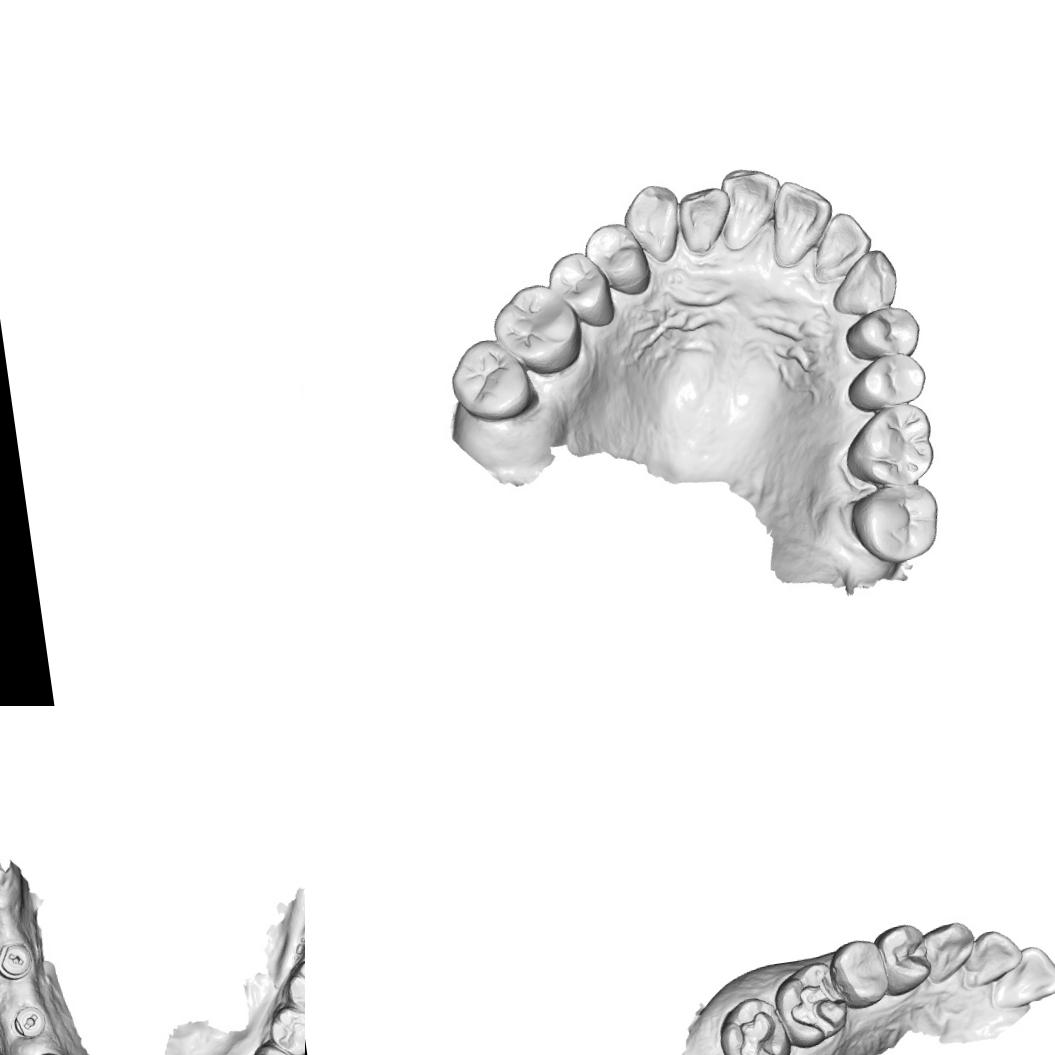canine: (826, 244, 912, 320), (617, 180, 688, 269), (915, 918, 980, 986)
implant_minus: (0, 939, 36, 983), (11, 1004, 48, 1042)
incisor: (762, 174, 840, 269), (710, 164, 788, 256), (805, 209, 877, 282), (984, 942, 1055, 1013), (674, 184, 737, 259), (958, 924, 1028, 988)
inlay: (780, 966, 850, 1044), (729, 1005, 785, 1055)
molar: (486, 277, 587, 383), (837, 399, 941, 495), (845, 477, 946, 572), (444, 332, 536, 429), (277, 951, 305, 1030)
premolar: (543, 246, 617, 334), (580, 218, 654, 302), (841, 348, 934, 414), (840, 303, 924, 367), (825, 933, 892, 1012), (872, 918, 934, 1000), (265, 999, 305, 1055), (242, 1035, 305, 1055)
